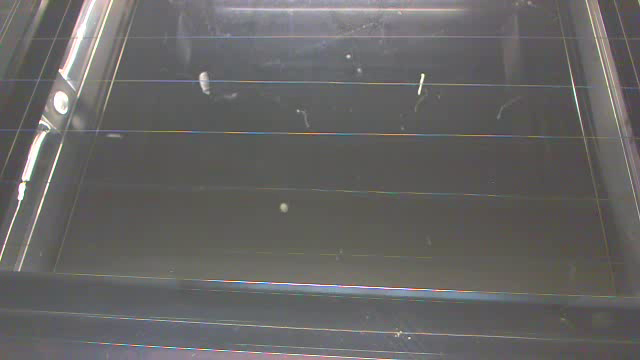Alfa: (191, 68, 219, 97)
